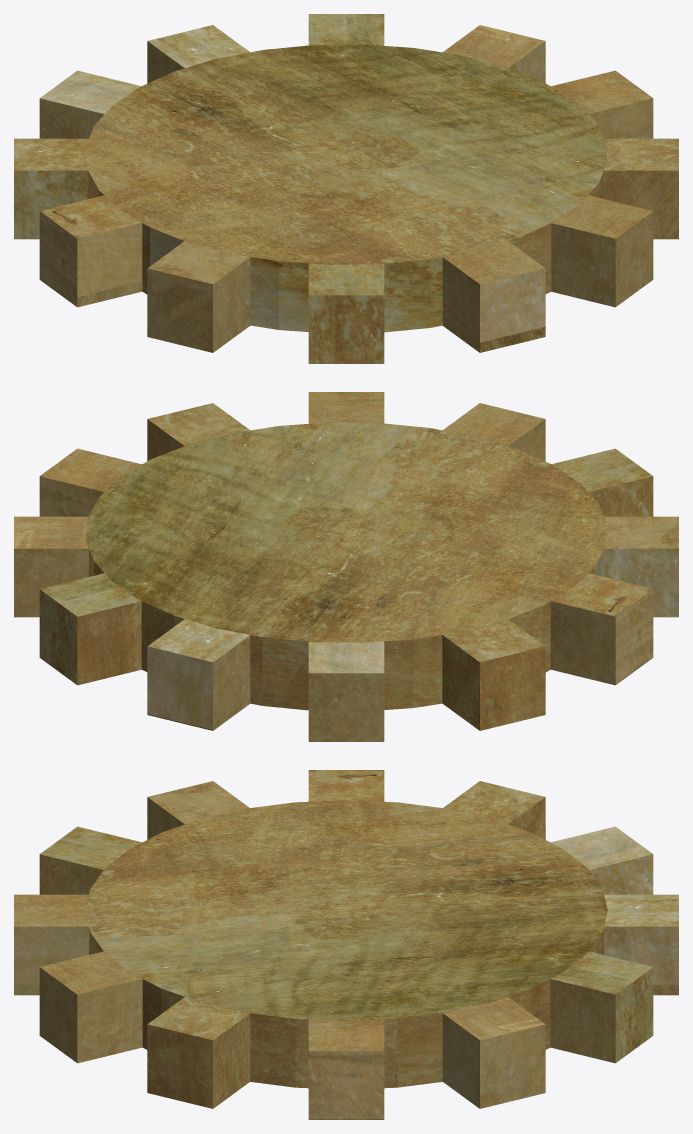
Rendered from gear12.obj.
3 renders of one model, top to bottom at view 1: azimuth 30°, elevation 25°; view 2: azimuth 150°, elevation 25°; view 3: azimuth 270°, elevation 25°, orthographic.
Visible parts, largest first — view 1: Cube.011_Cube.023; view 2: Cube.011_Cube.023; view 3: Cube.011_Cube.023.
Part boxes in pixels (x1,y1,x2,y2): Cube.011_Cube.023: (14,14,678,363); Cube.011_Cube.023: (14,392,678,741); Cube.011_Cube.023: (14,770,678,1119).
Size of the model in its own units: 0.998 by 0.1138 by 0.998.
